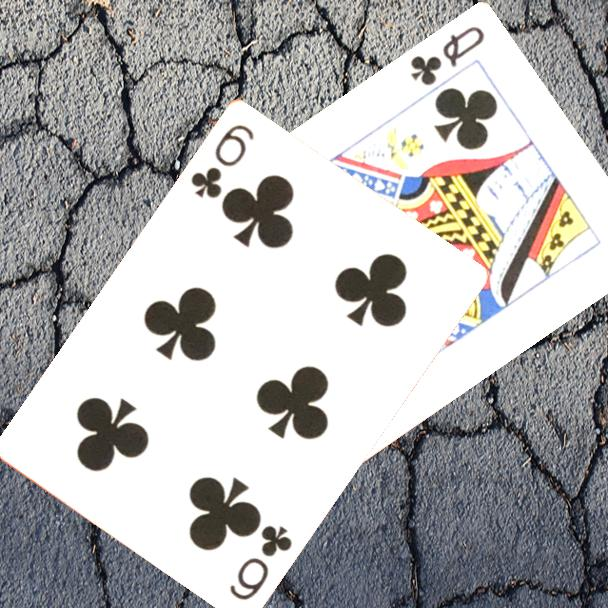c06: (226, 520, 295, 603), (187, 120, 257, 201)
c12: (406, 23, 488, 90)
